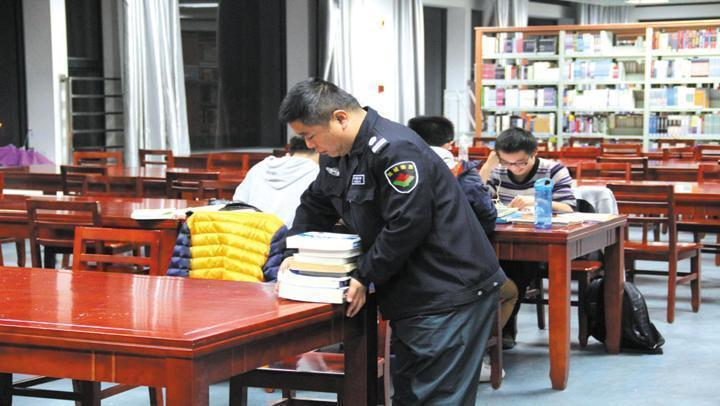safetyhat: (243, 70, 483, 383), (470, 114, 584, 226), (403, 98, 480, 196)
